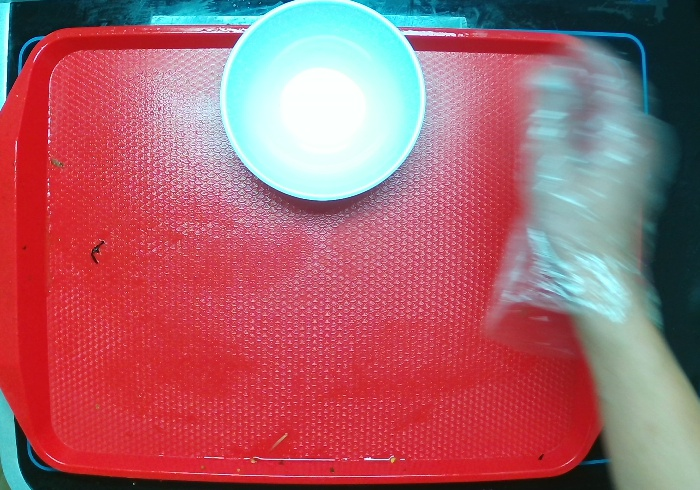YKMZ-Fan_Wan: (218, 1, 427, 205)
